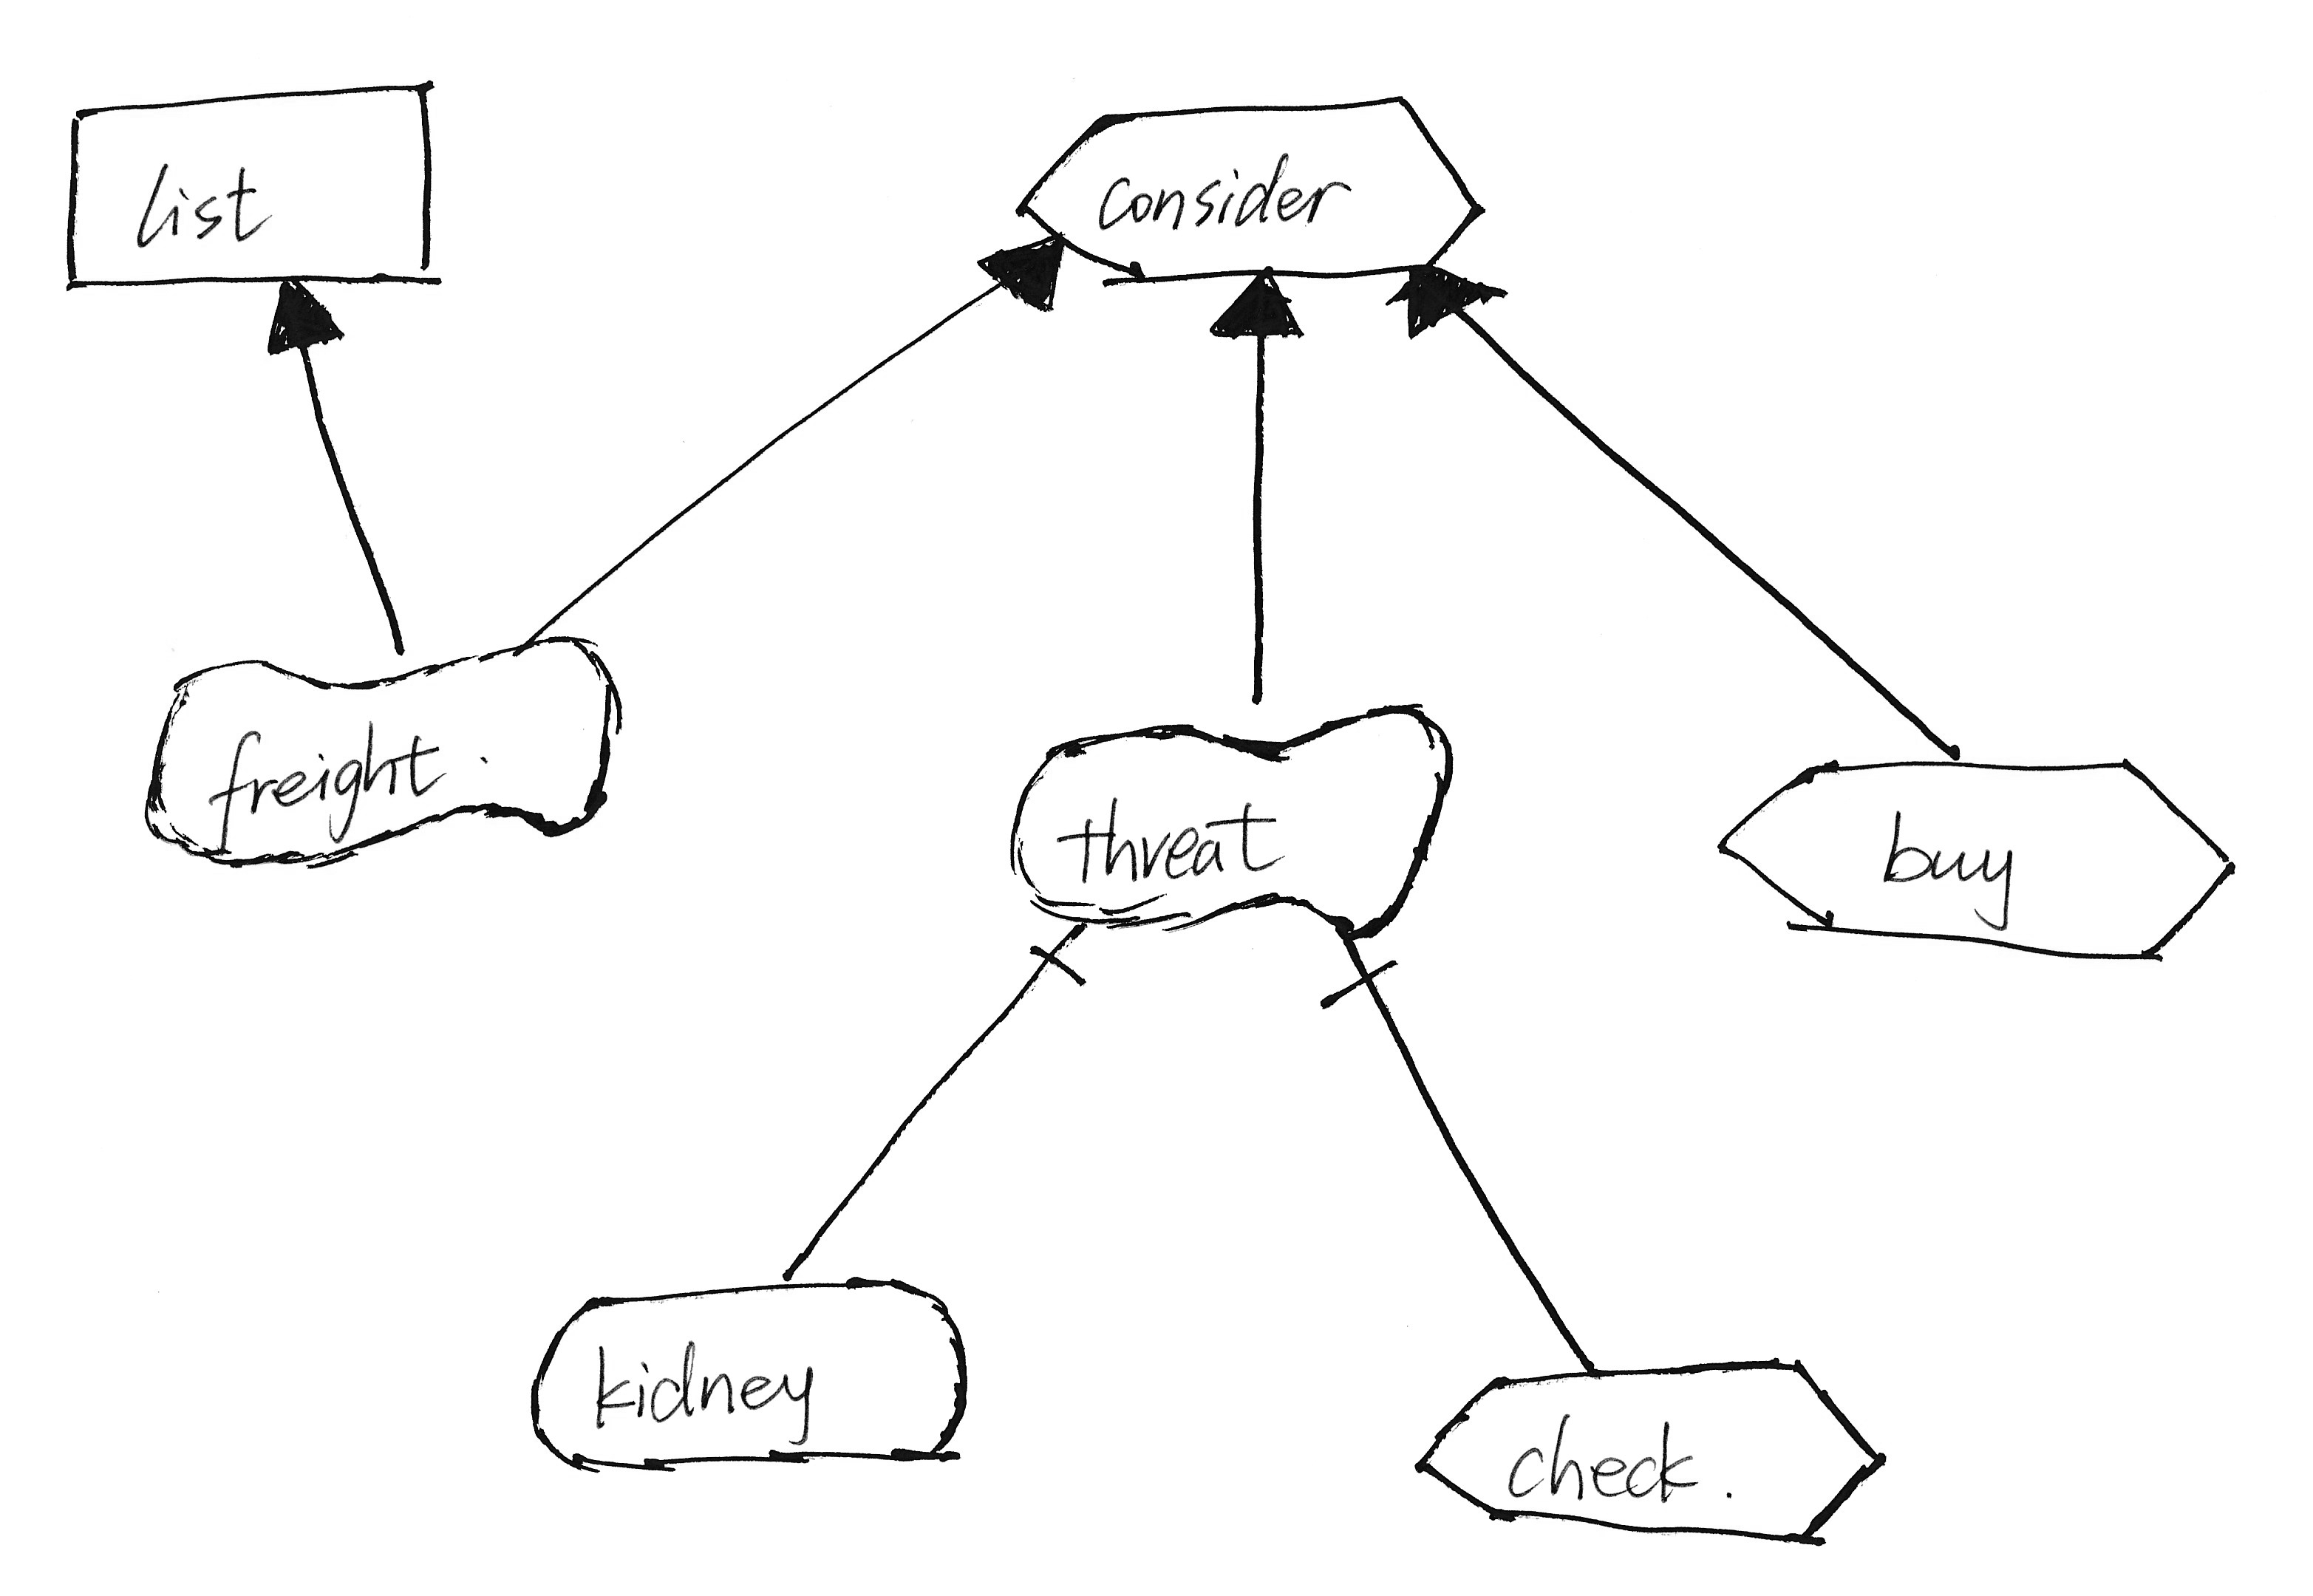and: (1309, 905, 1406, 1023), (1026, 910, 1104, 988)
goal: (506, 1260, 995, 1478)
or: (1396, 251, 1519, 343), (1202, 255, 1316, 352), (972, 223, 1081, 322), (251, 260, 350, 366)
quality: (118, 628, 640, 875), (986, 687, 1478, 946)
resource: (46, 60, 459, 302)
task: (1700, 744, 2262, 979), (1399, 1336, 1912, 1559), (1007, 81, 1496, 309)
